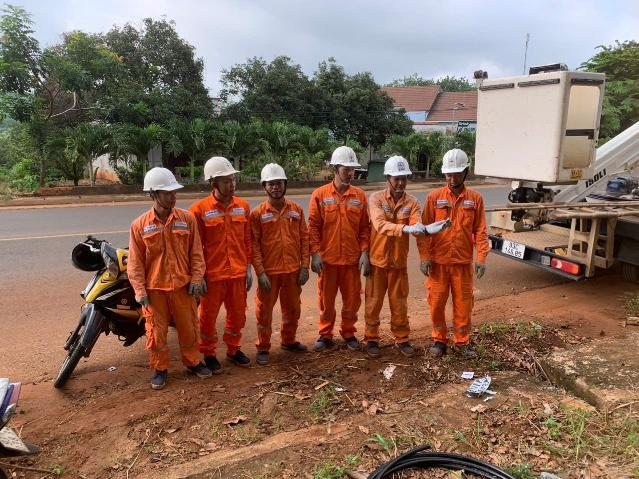gloves: (186, 266, 216, 321), (410, 253, 447, 284), (355, 244, 384, 281), (133, 284, 161, 321), (425, 215, 467, 239), (294, 255, 317, 294), (312, 237, 332, 279), (398, 214, 423, 244), (471, 259, 492, 287), (257, 267, 279, 293), (201, 272, 214, 304), (243, 262, 255, 292)
helmet: (436, 142, 492, 182), (319, 138, 367, 173), (189, 147, 241, 178), (254, 155, 302, 188), (132, 162, 186, 190), (380, 153, 419, 177)
shoes: (253, 343, 282, 373), (310, 327, 340, 356), (202, 352, 234, 379), (148, 365, 178, 393), (426, 332, 454, 362), (226, 344, 257, 371), (453, 336, 482, 361), (396, 334, 421, 362), (189, 358, 216, 383), (284, 333, 309, 360), (363, 334, 386, 363), (336, 334, 365, 356)
